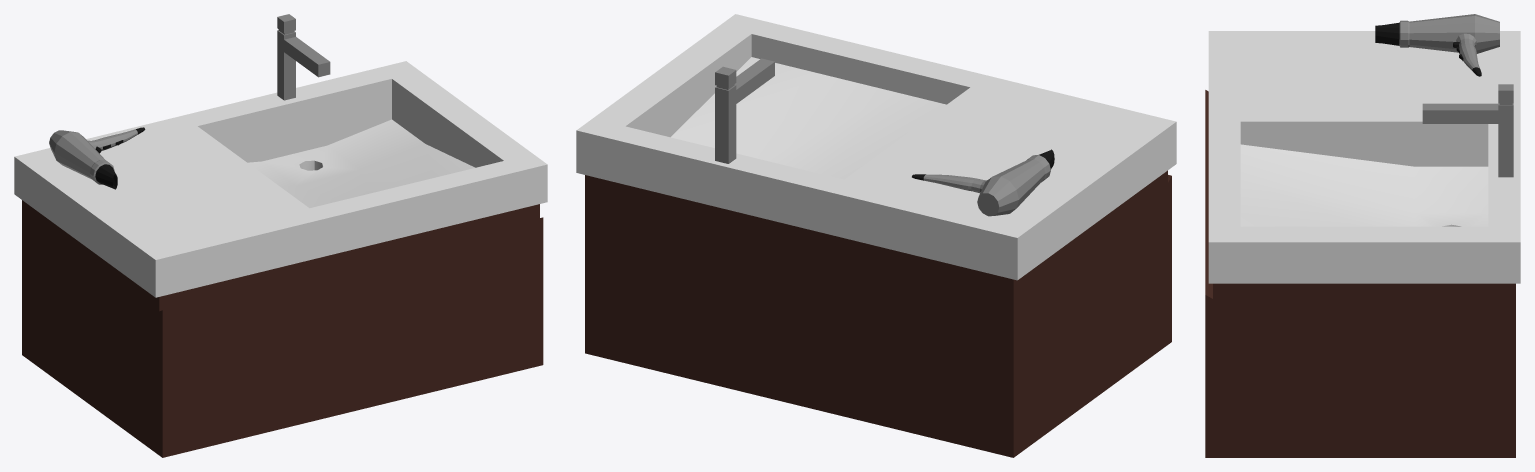
Rendered from Handwash Basin.fbx.
The picture shows the model from 3 angles, left to right: view 1: azimuth 30°, elevation 25°; view 2: azimuth 150°, elevation 25°; view 3: azimuth 270°, elevation 25°; orthographic projection. The views are drawn at different scales.
Parts seen in each view (by area): view 1: Handwash Basin; view 2: Handwash Basin; view 3: Handwash Basin.
Boxes of the visible parts, x1,y1,x2,y2 form: Handwash Basin: (14, 14, 547, 457); Handwash Basin: (576, 14, 1176, 457); Handwash Basin: (1205, 14, 1520, 457).
Size of the model in its own units: 142 by 95.71 by 89.43.
